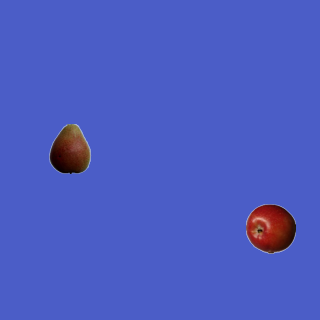Apple Braeburn: (245, 203, 295, 253)
Pear Forelle: (44, 123, 94, 173)
